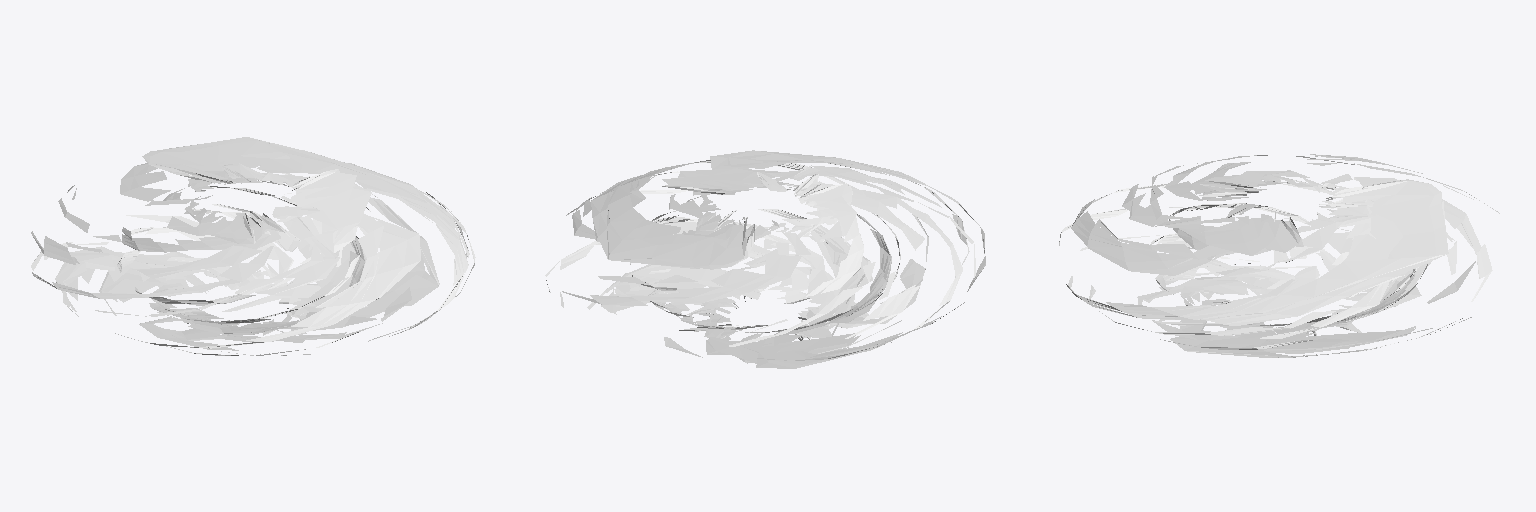
File: Explosion2.obj
3 views of the same model, side by side, from view 1: azimuth 30°, elevation 25°; view 2: azimuth 150°, elevation 25°; view 3: azimuth 270°, elevation 25° (orthographic).
Parts seen in each view (by area): view 1: Swirl1; view 2: Swirl1; view 3: Swirl1.
Part boxes in pixels (bbox=[...]): Swirl1: bbox=[31, 137, 475, 355]; Swirl1: bbox=[545, 150, 985, 368]; Swirl1: bbox=[1059, 154, 1499, 357].
Size of the model in its own units: 7.1 by 2.04 by 7.15.